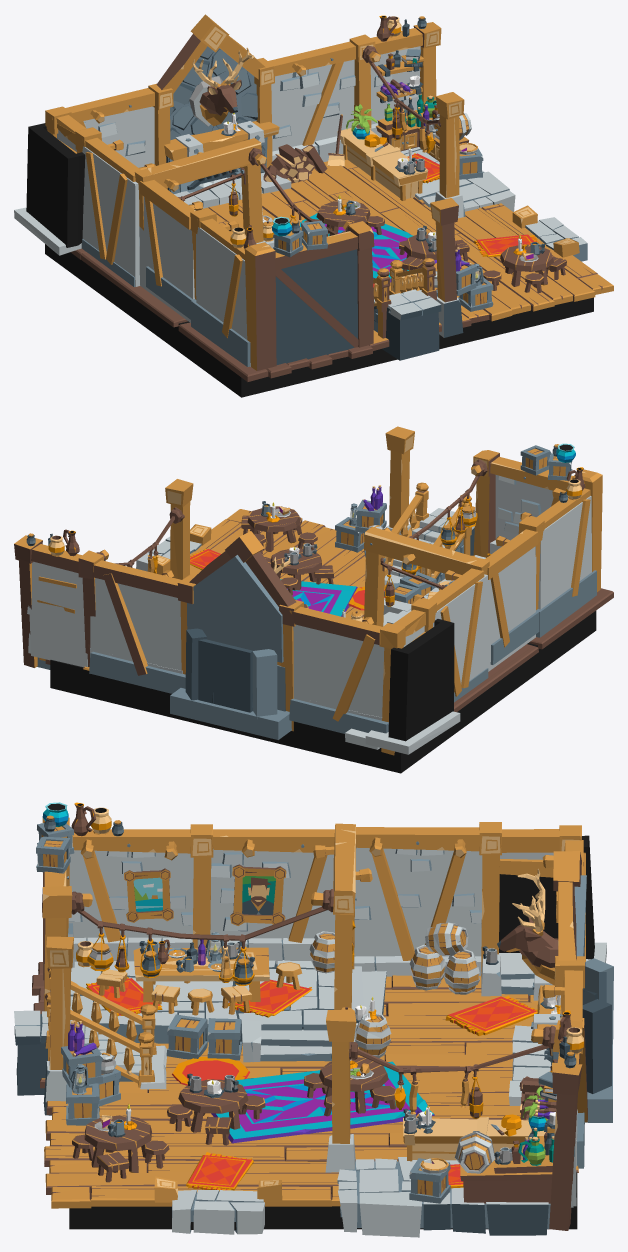
The model's file is Cozy Tavern - First Floor 2.glb.
The picture shows the model from 3 angles, top to bottom: view 1: azimuth 30°, elevation 25°; view 2: azimuth 150°, elevation 25°; view 3: azimuth 270°, elevation 25°; orthographic projection. The views are drawn at different scales.
Visible parts, largest first — view 1: group1563204207, group1722098415, group1718261112, group1806329641, group1149412887, group822585693, group843179588, group1570457038, group936772768, group1760430014, group1610604143, group1480383765 (+51 smaller); view 2: group1563204207, group1592880815, group193084205, group1149412887, group1806329641, group936772768, group425200879, group822585693, group1408592774, group1610604143, group688152922, group1722098415 (+48 smaller); view 3: group843179588, group1806329641, group1570457038, group822585693, group1718261112, group1377569298, group188180022, group858117732, group1563204207, group1480383765, group1149412887, group502351941 (+93 smaller).
Boxes of the visible parts, bbox=[...] form: group1563204207: bbox=[45, 244, 593, 397]; group1722098415: bbox=[275, 249, 357, 364]; group1718261112: bbox=[308, 159, 554, 321]; group1806329641: bbox=[191, 227, 250, 366]; group1149412887: bbox=[26, 123, 85, 247]; group822585693: bbox=[139, 196, 196, 322]; group843179588: bbox=[413, 197, 613, 304]; group1570457038: bbox=[82, 146, 139, 286]; group936772768: bbox=[271, 59, 354, 151]; group1760430014: bbox=[244, 242, 276, 370]; group1610604143: bbox=[134, 138, 266, 191]; group1480383765: bbox=[430, 198, 463, 337]; group1563204207: bbox=[50, 611, 596, 773]; group1592880815: bbox=[289, 624, 388, 733]; group193084205: bbox=[187, 555, 283, 662]; group1149412887: bbox=[388, 619, 454, 741]; group1806329641: bbox=[536, 496, 596, 637]; group936772768: bbox=[90, 578, 181, 670]; group425200879: bbox=[29, 561, 87, 667]; group822585693: bbox=[487, 546, 540, 671]; group1408592774: bbox=[198, 639, 252, 712]; group1610604143: bbox=[364, 526, 489, 574]; group688152922: bbox=[170, 688, 291, 739]; group1722098415: bbox=[490, 475, 559, 554]; group843179588: bbox=[45, 1160, 397, 1208]; group1806329641: bbox=[68, 850, 193, 961]; group1570457038: bbox=[354, 847, 482, 957]; group822585693: bbox=[210, 849, 335, 964]; group1718261112: bbox=[44, 1120, 406, 1166]; group1377569298: bbox=[211, 1061, 434, 1143]; group188180022: bbox=[40, 1042, 512, 1088]; group858117732: bbox=[46, 1080, 526, 1120]; group1563204207: bbox=[69, 1006, 577, 1229]; group1480383765: bbox=[43, 936, 73, 1115]; group1149412887: bbox=[499, 835, 594, 959]; group502351941: bbox=[356, 827, 479, 858].
Size of the model in its own units: 9.66 by 4.47 by 9.44.
